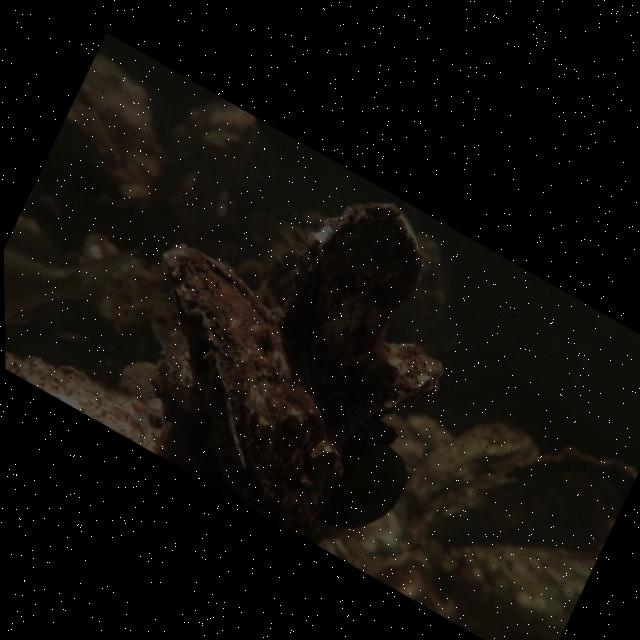Oyster-Closed: (157, 236, 350, 547), (280, 196, 436, 426), (345, 338, 448, 439)
Oyster-Indeterminate: (403, 443, 639, 543), (5, 354, 172, 458), (431, 538, 596, 640), (403, 419, 535, 507), (152, 325, 207, 415)
